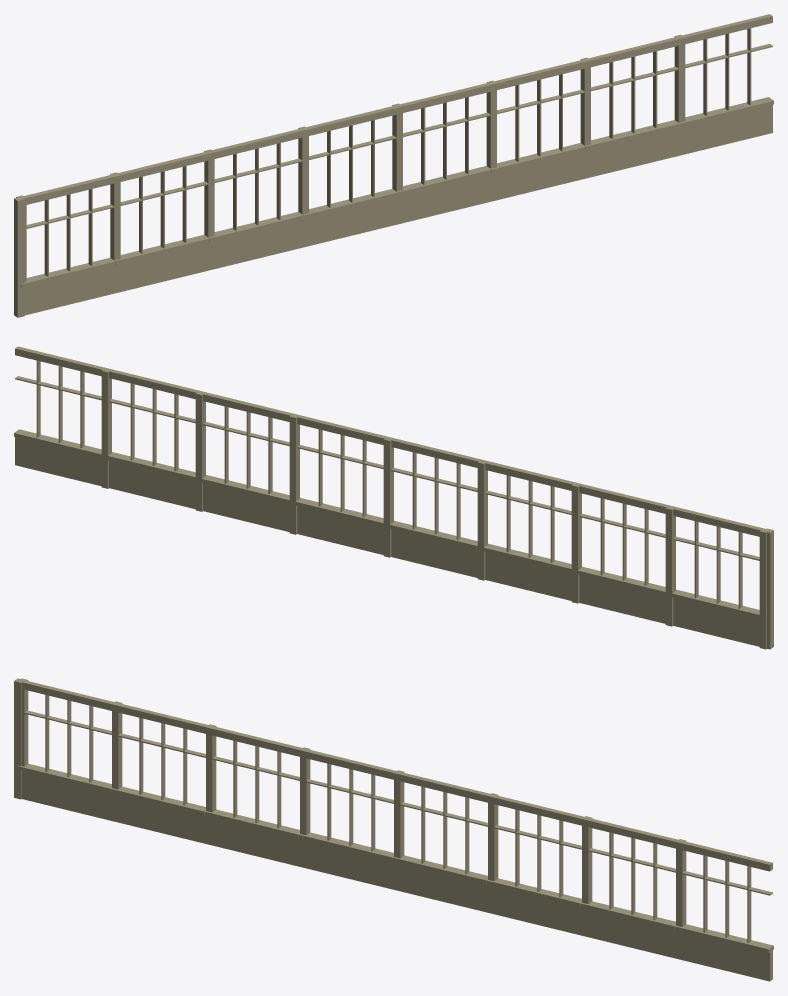
The model's file is ParedeSol.obj.
3 renders of one model, top to bottom at view 1: azimuth 30°, elevation 25°; view 2: azimuth 150°, elevation 25°; view 3: azimuth 330°, elevation 25°, orthographic.
Parts seen in each view (by area): view 1: Mesh.018_Mesh.016_Plane.081, Mesh.043_Mesh.015_Plane.080, Mesh.004_Mesh.024_Plane.088, Mesh.061_Mesh.083_Plane.004, Mesh.024_Mesh.000_Plane.065, Mesh.087_Mesh.008_Plane.073, Mesh.009_Mesh.025_Plane.089, Mesh.031_Mesh.007_Plane.072, Mesh.064_Mesh.017_Plane.082, Mesh.030_Mesh.082_Plane.003, Mesh.019_Mesh.001_Plane.066, Mesh.094_Mesh.014_Plane.079 (+12 smaller); view 2: Mesh.024_Mesh.000_Plane.065, Mesh.061_Mesh.083_Plane.004, Mesh.031_Mesh.007_Plane.072, Mesh.087_Mesh.008_Plane.073, Mesh.004_Mesh.024_Plane.088, Mesh.043_Mesh.015_Plane.080, Mesh.009_Mesh.025_Plane.089, Mesh.018_Mesh.016_Plane.081, Mesh.007_Mesh.023_Plane.087, Mesh.038_Mesh.009_Plane.074, Mesh.030_Mesh.082_Plane.003, Mesh.064_Mesh.017_Plane.082 (+13 smaller); view 3: Mesh.061_Mesh.083_Plane.004, Mesh.009_Mesh.025_Plane.089, Mesh.004_Mesh.024_Plane.088, Mesh.031_Mesh.007_Plane.072, Mesh.043_Mesh.015_Plane.080, Mesh.087_Mesh.008_Plane.073, Mesh.024_Mesh.000_Plane.065, Mesh.018_Mesh.016_Plane.081, Mesh.007_Mesh.023_Plane.087, Mesh.019_Mesh.001_Plane.066, Mesh.094_Mesh.014_Plane.079, Mesh.064_Mesh.017_Plane.082 (+13 smaller).
Boxes of the visible parts, x1,y1,x2,y2 form: Mesh.018_Mesh.016_Plane.081: (21,258,115,314); Mesh.043_Mesh.015_Plane.080: (114,235,209,291); Mesh.004_Mesh.024_Plane.088: (209,212,303,268); Mesh.061_Mesh.083_Plane.004: (679,97,773,154); Mesh.024_Mesh.000_Plane.065: (585,120,679,177); Mesh.087_Mesh.008_Plane.073: (491,143,585,200); Mesh.009_Mesh.025_Plane.089: (303,189,397,245); Mesh.031_Mesh.007_Plane.072: (397,166,491,222); Mesh.064_Mesh.017_Plane.082: (24,175,114,288); Mesh.030_Mesh.082_Plane.003: (682,14,772,126); Mesh.019_Mesh.001_Plane.066: (588,37,678,144); Mesh.094_Mesh.014_Plane.079: (118,152,208,265); Mesh.024_Mesh.000_Plane.065: (108,452,206,509); Mesh.061_Mesh.083_Plane.004: (14,429,112,486); Mesh.031_Mesh.007_Plane.072: (296,498,394,554); Mesh.087_Mesh.008_Plane.073: (202,475,300,531); Mesh.004_Mesh.024_Plane.088: (484,544,582,600); Mesh.043_Mesh.015_Plane.080: (578,567,676,623); Mesh.009_Mesh.025_Plane.089: (390,521,488,577); Mesh.018_Mesh.016_Plane.081: (672,590,765,646); Mesh.007_Mesh.023_Plane.087: (485,461,575,574); Mesh.038_Mesh.009_Plane.074: (203,392,292,505); Mesh.030_Mesh.082_Plane.003: (15,346,105,459); Mesh.064_Mesh.017_Plane.082: (673,507,762,618); Mesh.061_Mesh.083_Plane.004: (675,924,773,981); Mesh.009_Mesh.025_Plane.089: (299,832,393,889); Mesh.004_Mesh.024_Plane.088: (205,809,299,866); Mesh.031_Mesh.007_Plane.072: (393,855,487,912); Mesh.043_Mesh.015_Plane.080: (111,786,205,843); Mesh.087_Mesh.008_Plane.073: (487,878,581,935); Mesh.024_Mesh.000_Plane.065: (581,901,675,958); Mesh.018_Mesh.016_Plane.081: (17,763,111,820); Mesh.007_Mesh.023_Plane.087: (212,726,302,840); Mesh.019_Mesh.001_Plane.066: (588,818,678,931); Mesh.094_Mesh.014_Plane.079: (118,703,208,816); Mesh.064_Mesh.017_Plane.082: (24,681,114,794).
Size of the model in its own units: 43.11 by 6.37 by 0.5129.
